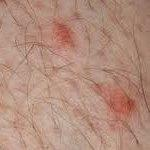Ants: (87, 69, 140, 122), (52, 20, 74, 53)
